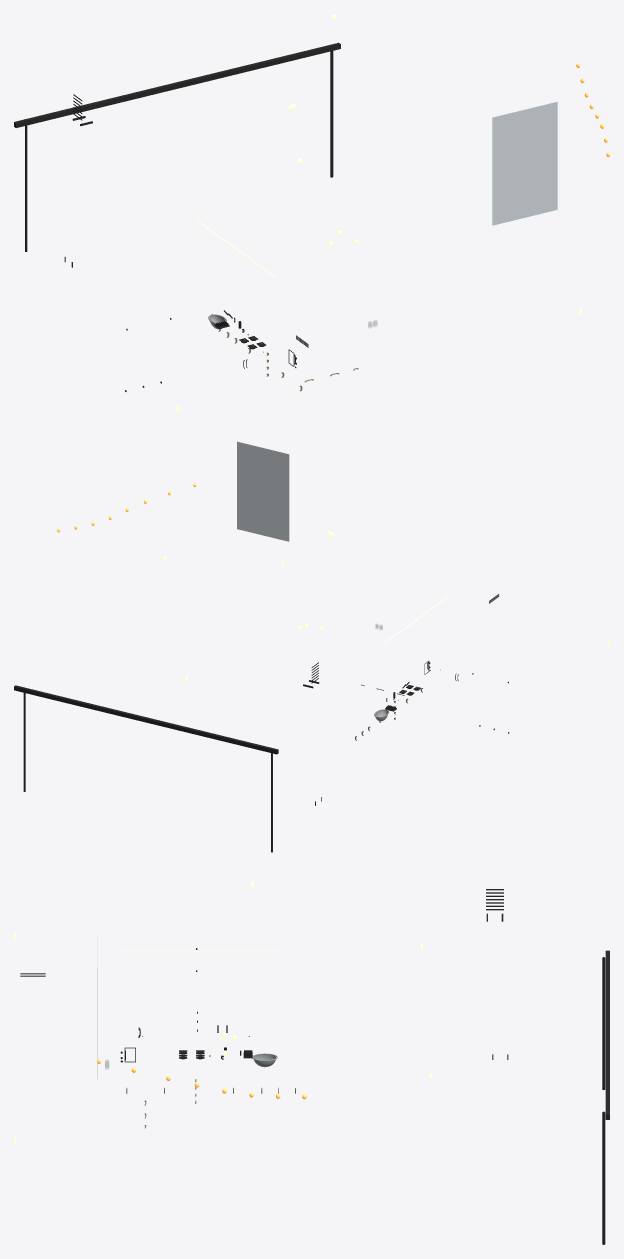
Rendered from native.glb.
The picture shows the model from 3 angles, top to bottom: view 1: azimuth 30°, elevation 25°; view 2: azimuth 150°, elevation 25°; view 3: azimuth 270°, elevation 25°; orthographic projection. The views are drawn at different scales.
Visible parts, largest first — view 1: Escada_abertura_vidro, 0706_estrutura; view 2: Escada_abertura_vidro, 0706_estrutura; view 3: 0706_estrutura, 0707_estrutura, 0708_estrutura.
Part boxes in pixels (<box>): Escada_abertura_vidro: <box>492,101,557,225</box>; 0706_estrutura: <box>14,42,340,127</box>; Escada_abertura_vidro: <box>237,441,289,541</box>; 0706_estrutura: <box>14,685,278,754</box>; 0706_estrutura: <box>605,950,609,1119</box>; 0707_estrutura: <box>602,1111,605,1244</box>; 0708_estrutura: <box>602,957,605,1089</box>.
Bounding box in the file's own units: 11.87 × 5.4 × 10.89.
